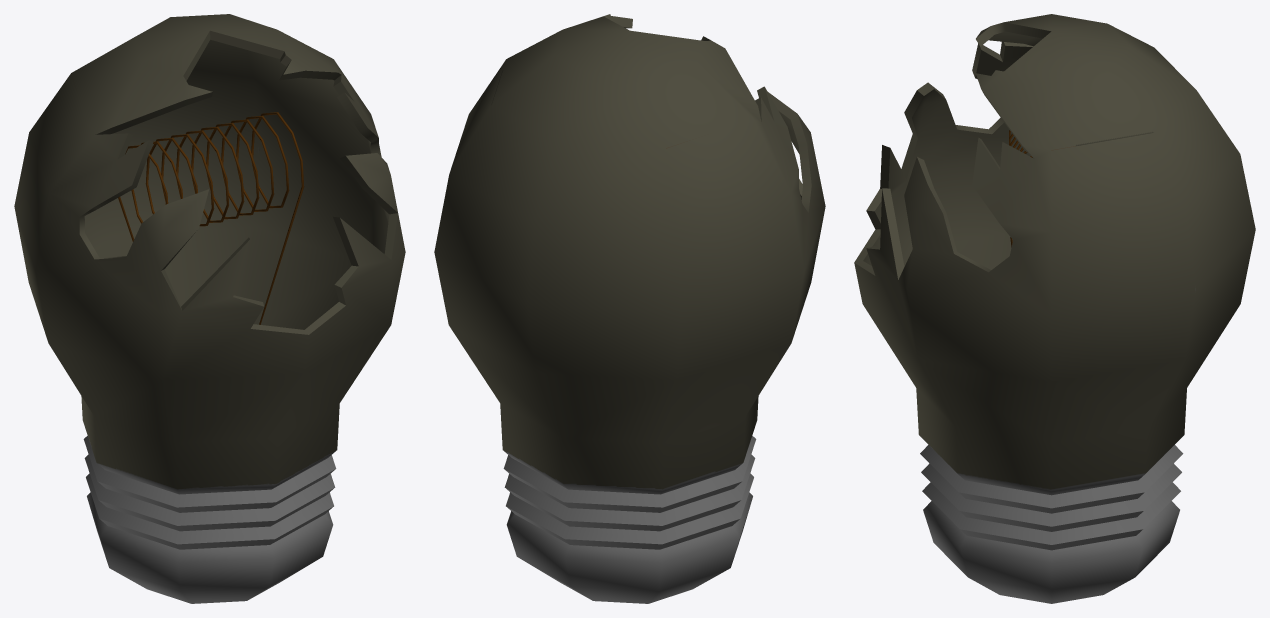
File: lampada.fbx
3 renders of one model, left to right at view 1: azimuth 30°, elevation 25°; view 2: azimuth 150°, elevation 25°; view 3: azimuth 270°, elevation 25°, orthographic.
Parts seen in each view (by area): view 1: lanpada; view 2: lanpada; view 3: lanpada.
Boxes of the visible parts, left/top/right/bottom form: lanpada: left=14, top=14, right=405, bottom=603; lanpada: left=434, top=14, right=825, bottom=603; lanpada: left=854, top=14, right=1255, bottom=603.
Bounding box in the file's own units: 7 × 10.7 × 7.
1 material, 1 textured.
